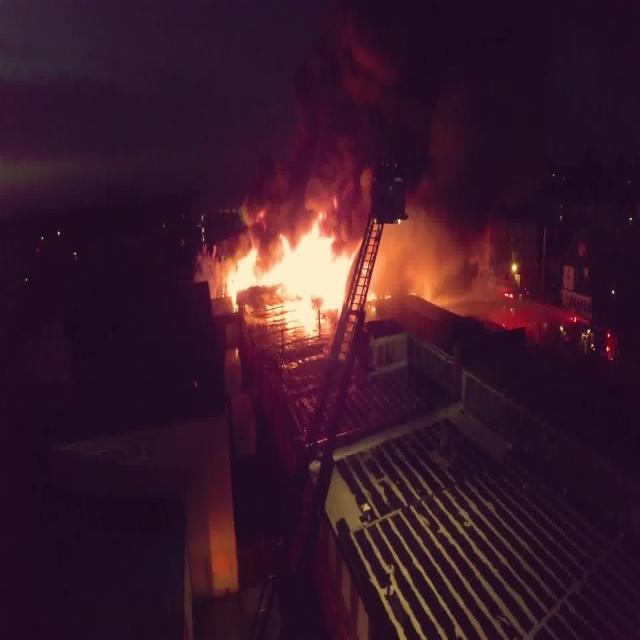Fire: (225, 227, 369, 321)
Smoke: (212, 0, 640, 304)
